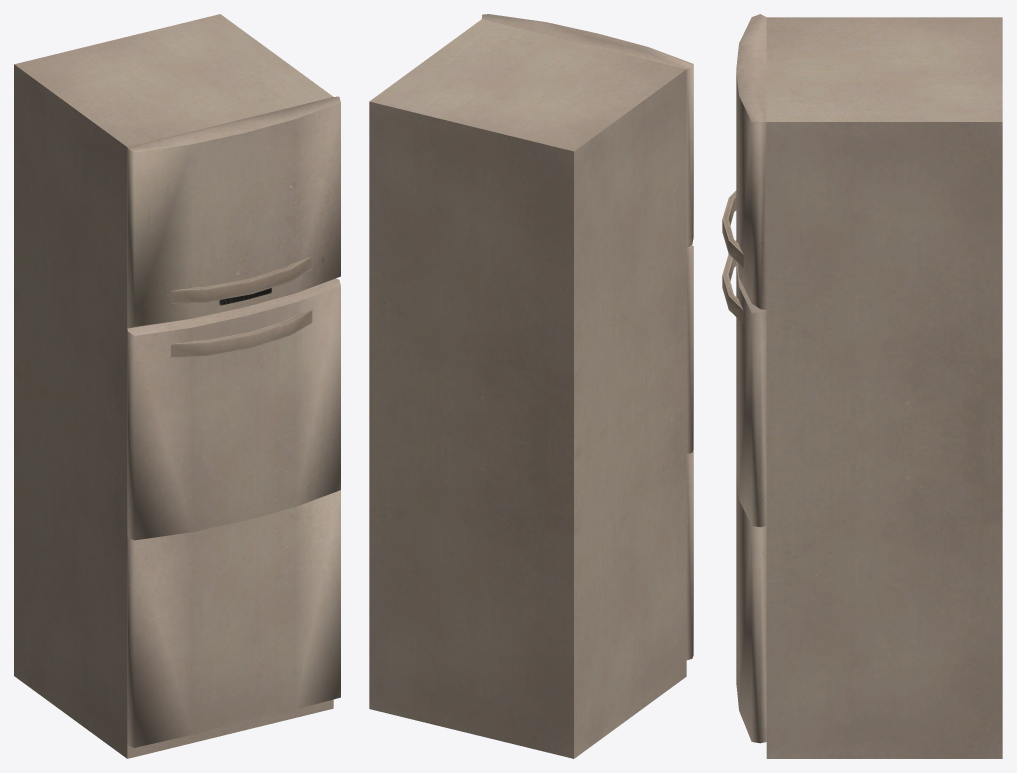
The model's file is Prop_Fridge01.glb.
3 views of the same model, side by side, from view 1: azimuth 30°, elevation 25°; view 2: azimuth 150°, elevation 25°; view 3: azimuth 270°, elevation 25° (orthographic). The views are drawn at different scales.
Visible parts, largest first — view 1: xiutz_fridge01; view 2: xiutz_fridge01; view 3: xiutz_fridge01.
Boxes of the visible parts, x1,y1,x2,y2 form: xiutz_fridge01: (14, 14, 340, 758); xiutz_fridge01: (369, 14, 693, 758); xiutz_fridge01: (722, 14, 1002, 758).
Bounding box in the file's own units: 1.07 × 2.96 × 1.18.
Materials: 1 (1 with a texture image).
